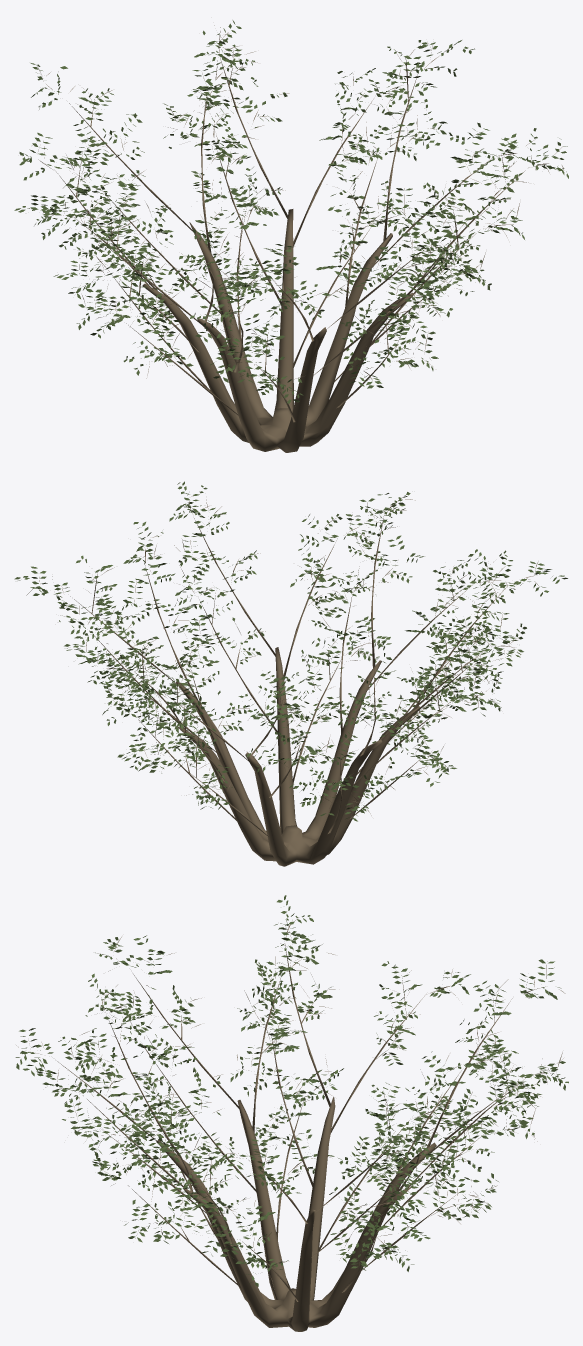
File: Lentisque_1_Niveau1.fbx
3 views of the same model, one above another, from view 1: azimuth 30°, elevation 25°; view 2: azimuth 150°, elevation 25°; view 3: azimuth 270°, elevation 25° (orthographic). The views are drawn at different scales.
Parts seen in each view (by area): view 1: Lentisque_1_Niveau1_Jeu; view 2: Lentisque_1_Niveau1_Jeu; view 3: Lentisque_1_Niveau1_Jeu.
Boxes of the visible parts, x1,y1,x2,y2 form: Lentisque_1_Niveau1_Jeu: (14,20,568,452); Lentisque_1_Niveau1_Jeu: (14,481,567,866); Lentisque_1_Niveau1_Jeu: (15,895,568,1331).
Size of the model in its own units: 264 by 159 by 254.
